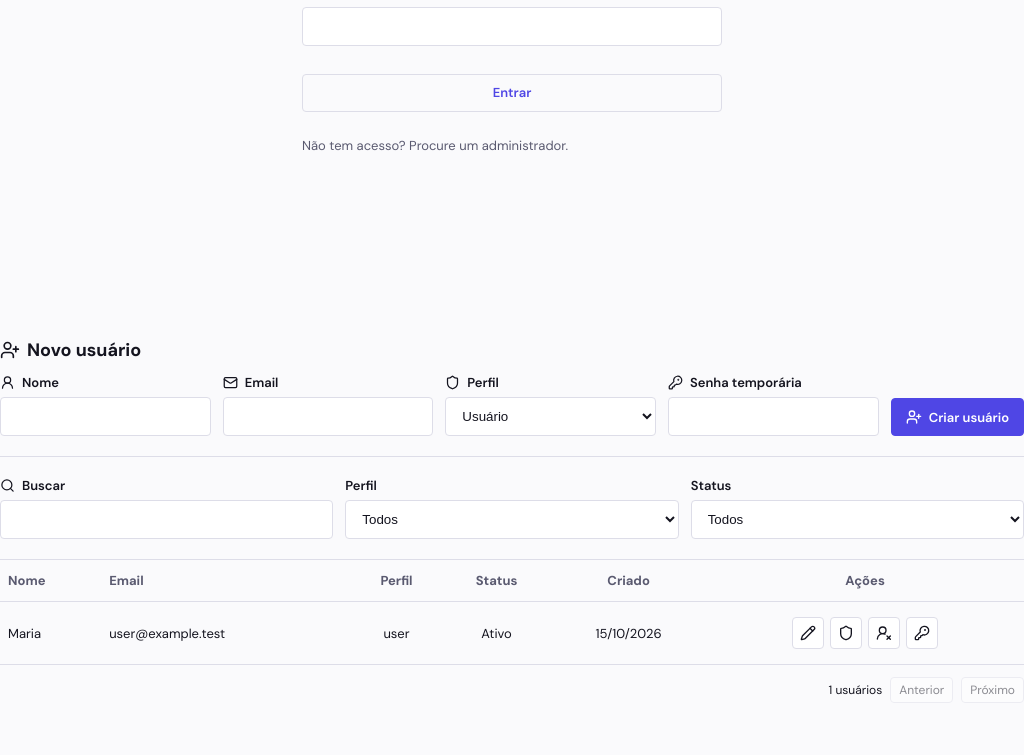
edits a user name only after confirming in the app dialog
(page scrolled)
Click the button named "Editar nome de user@example.test": x=808, y=633 top-left (792, 617), bottom-right (824, 649)
(page scrolled)
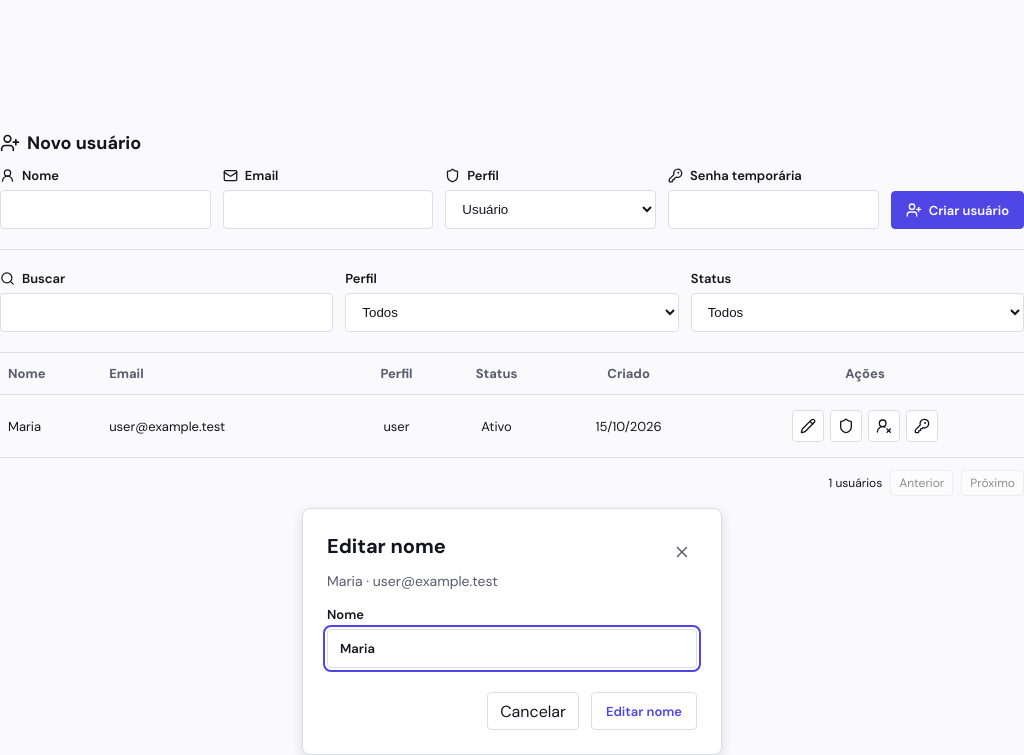
Now the 2nd field labelled "Nome" is shown, box top-left (327, 629), bottom-right (697, 668)
Click the button "Cancelar": x=533, y=711 top-left (487, 692), bottom-right (579, 730)
(page scrolled)
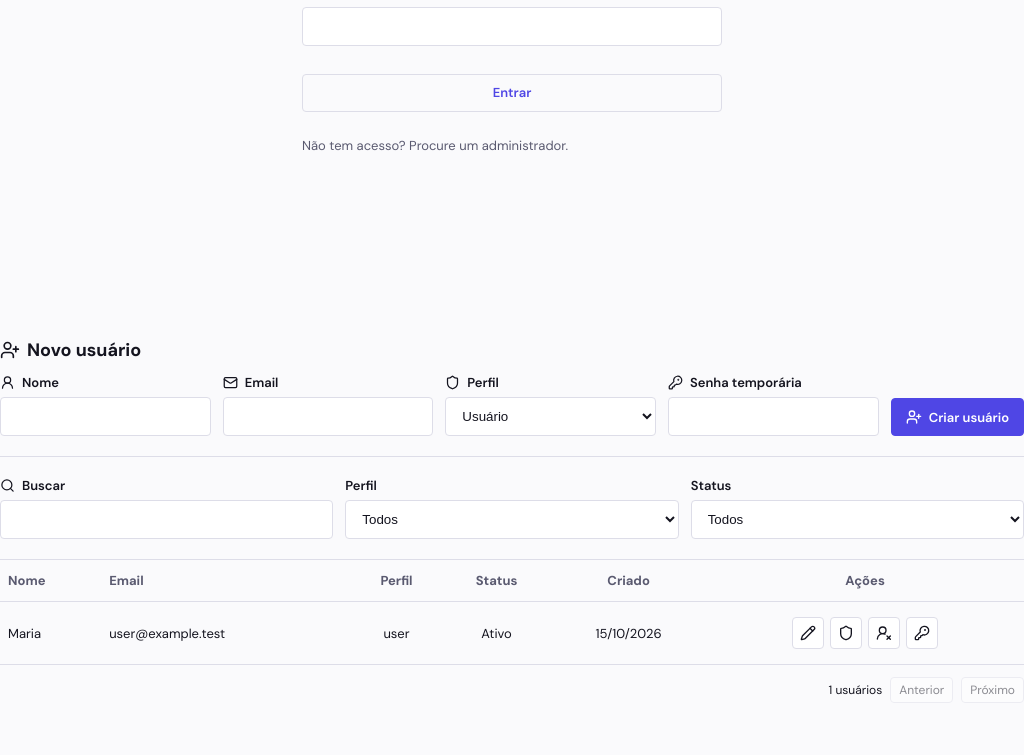
Click the button named "Editar nome de user@example.test": x=808, y=633 top-left (792, 617), bottom-right (824, 649)
(page scrolled)
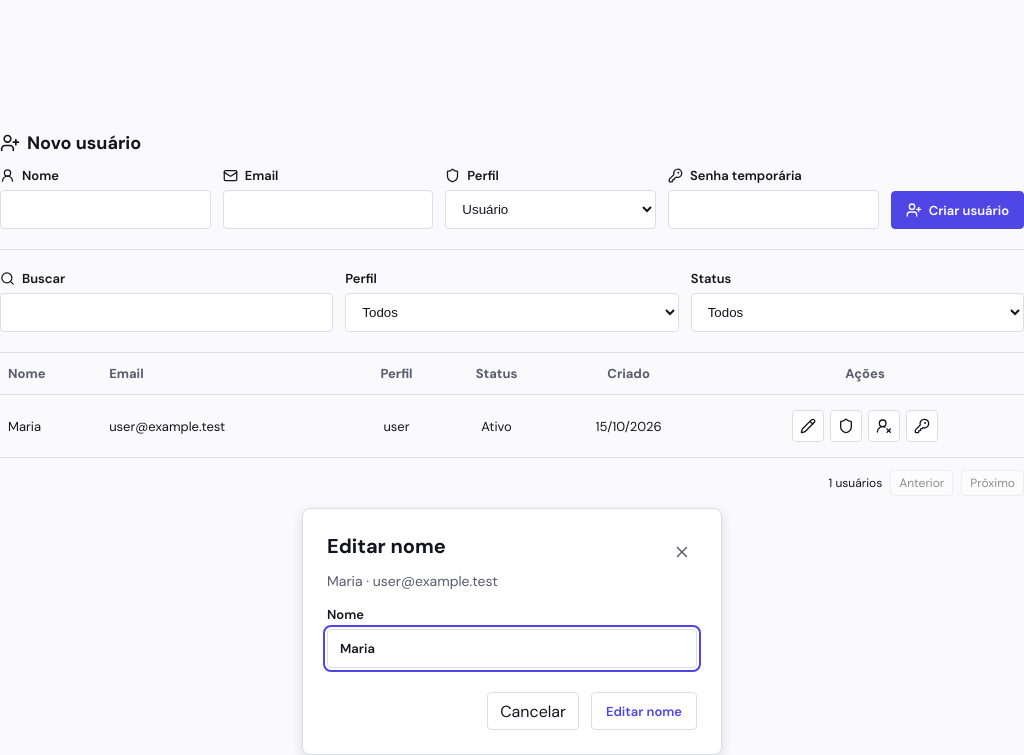
Replace the text in the 2nd field labelled "Nome" with "Maria Silva": x=512, y=648 top-left (327, 629), bottom-right (697, 668)
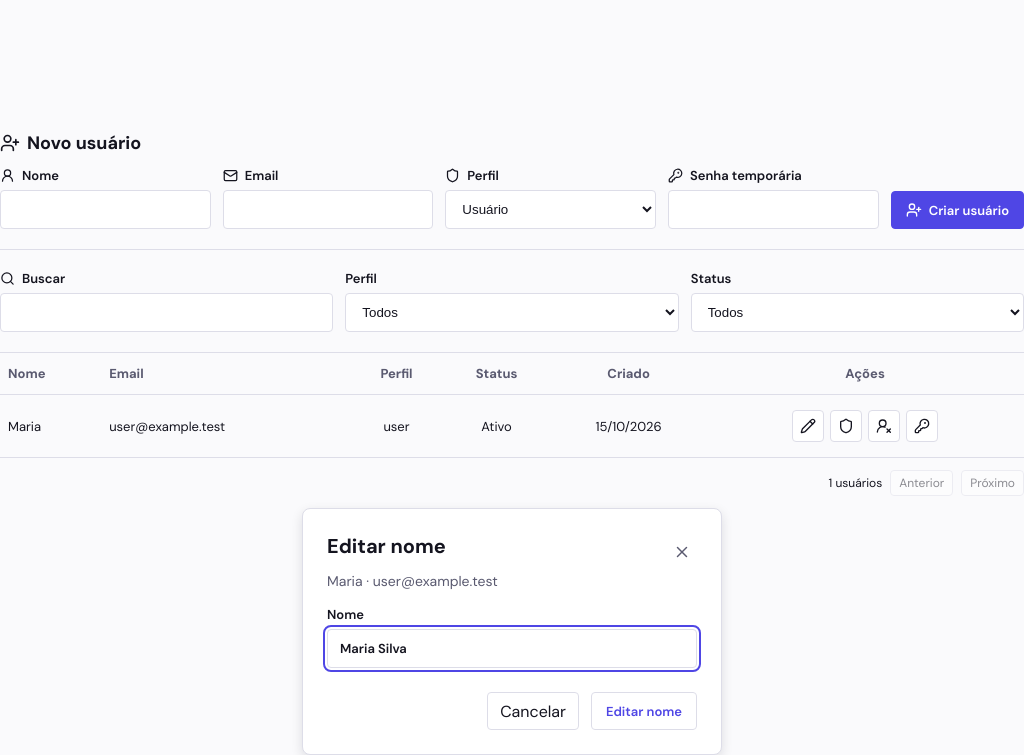
Click the button "Editar nome": x=644, y=711 top-left (591, 692), bottom-right (697, 730)
(page scrolled)
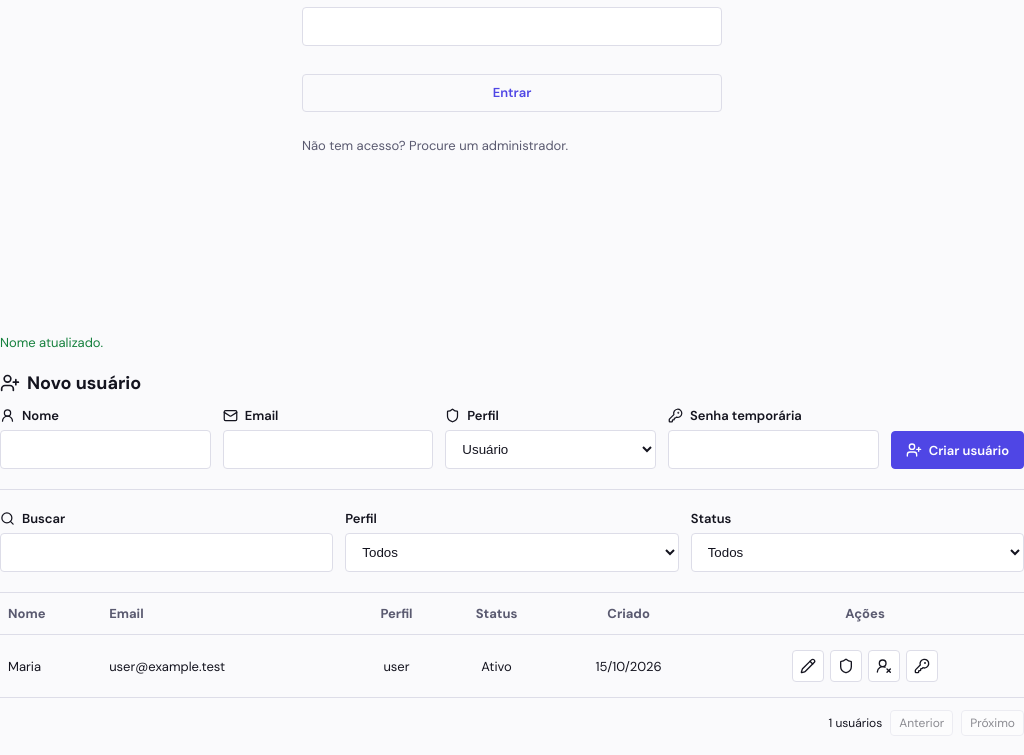
Now the text "Nome atualizado." is shown, box top-left (0, 334), bottom-right (103, 351)
